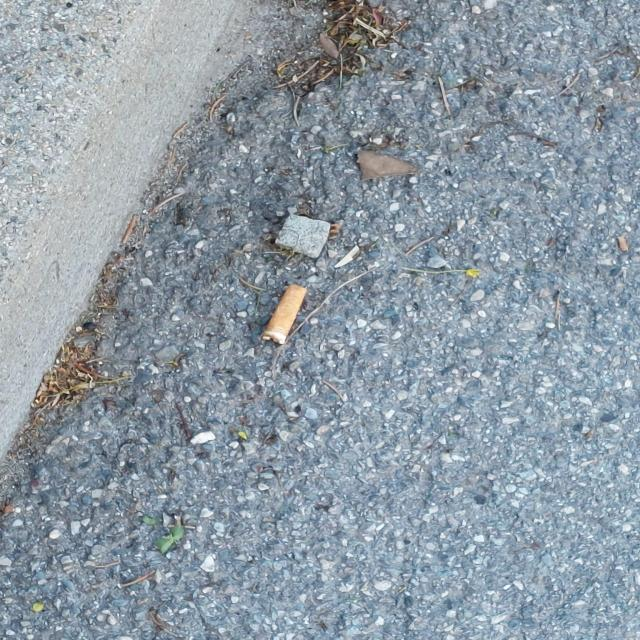other waste: (262, 282, 308, 346)
